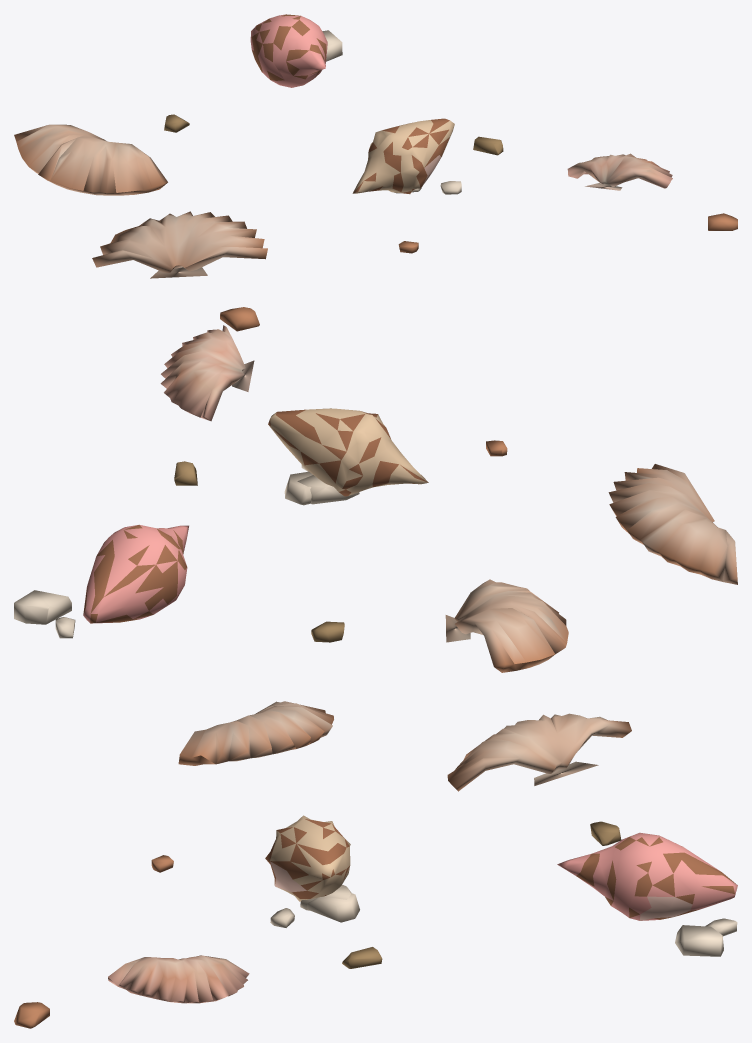
Rendered from shore_gc_shells_b.glb.
3 views of the same model, one above another, from view 1: azimuth 30°, elevation 25°; view 2: azimuth 150°, elevation 25°; view 3: azimuth 270°, elevation 25° (orthographic). The views are drawn at different scales.
Parts seen in each view (by area): view 1: shore_gc_shells_b; view 2: shore_gc_shells_b; view 3: shore_gc_shells_b.
Part boxes in pixels (x1,y1,x2,y2): shore_gc_shells_b: [14, 14, 737, 278]; shore_gc_shells_b: [14, 307, 737, 672]; shore_gc_shells_b: [14, 701, 737, 1028].
Bounding box in the file's own units: 3.8 × 0.4486 × 3.74.
